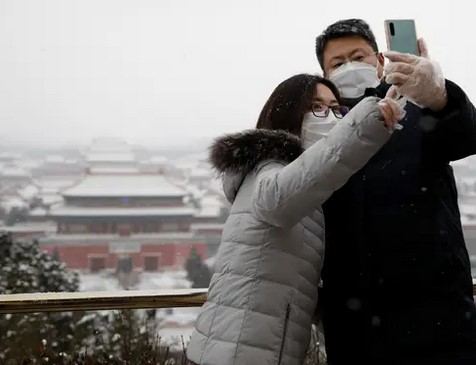face_with_mask: (261, 79, 345, 152), (315, 24, 385, 100)
